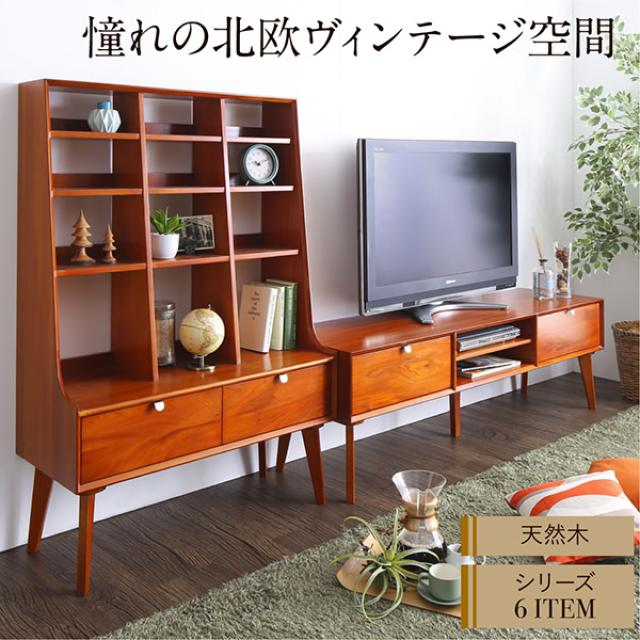vintage shelf: (13, 74, 334, 588), (305, 287, 613, 424)
